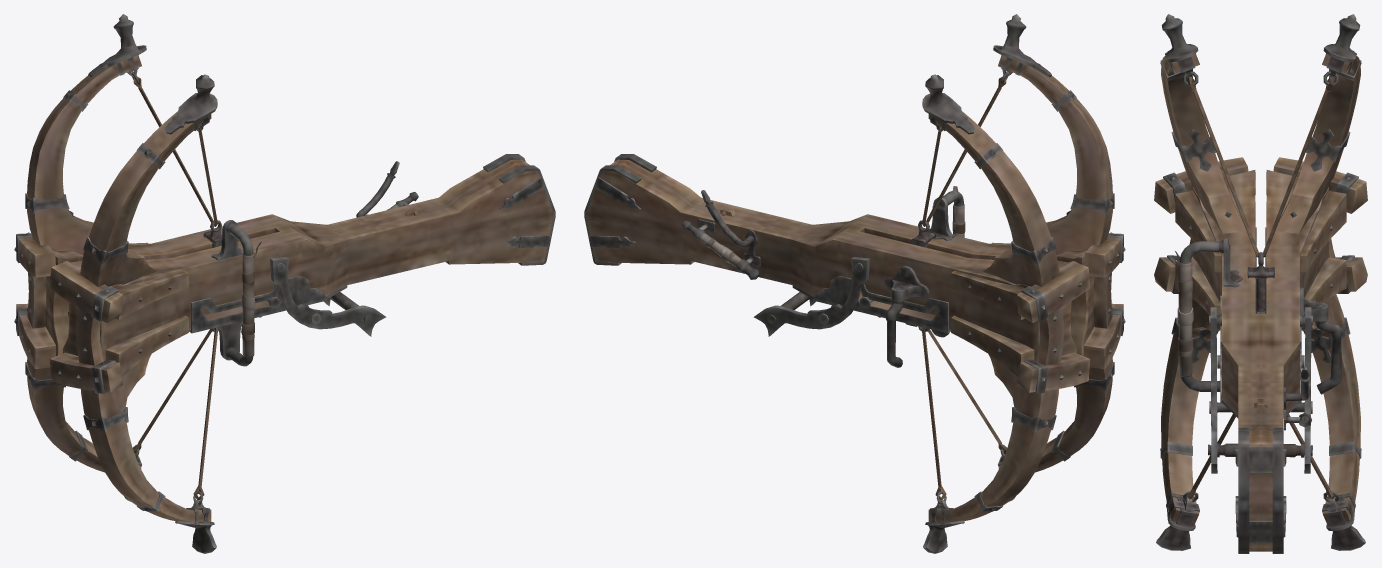
Rendered from weapon-wp_a_1510.glb.
3 renders of one model, left to right at view 1: azimuth 30°, elevation 25°; view 2: azimuth 150°, elevation 25°; view 3: azimuth 270°, elevation 25°, orthographic. The views are drawn at different scales.
Parts seen in each view (by area): view 1: wp_a_1510_mesh; view 2: wp_a_1510_mesh; view 3: wp_a_1510_mesh.
Part boxes in pixels (box(x1,y1,x2,y2)): wp_a_1510_mesh: box(14, 14, 555, 553); wp_a_1510_mesh: box(584, 14, 1125, 553); wp_a_1510_mesh: box(1154, 14, 1367, 553).
Size of the model in its own units: 1.33 by 1.22 by 0.4395.
3 materials, 3 textured.
